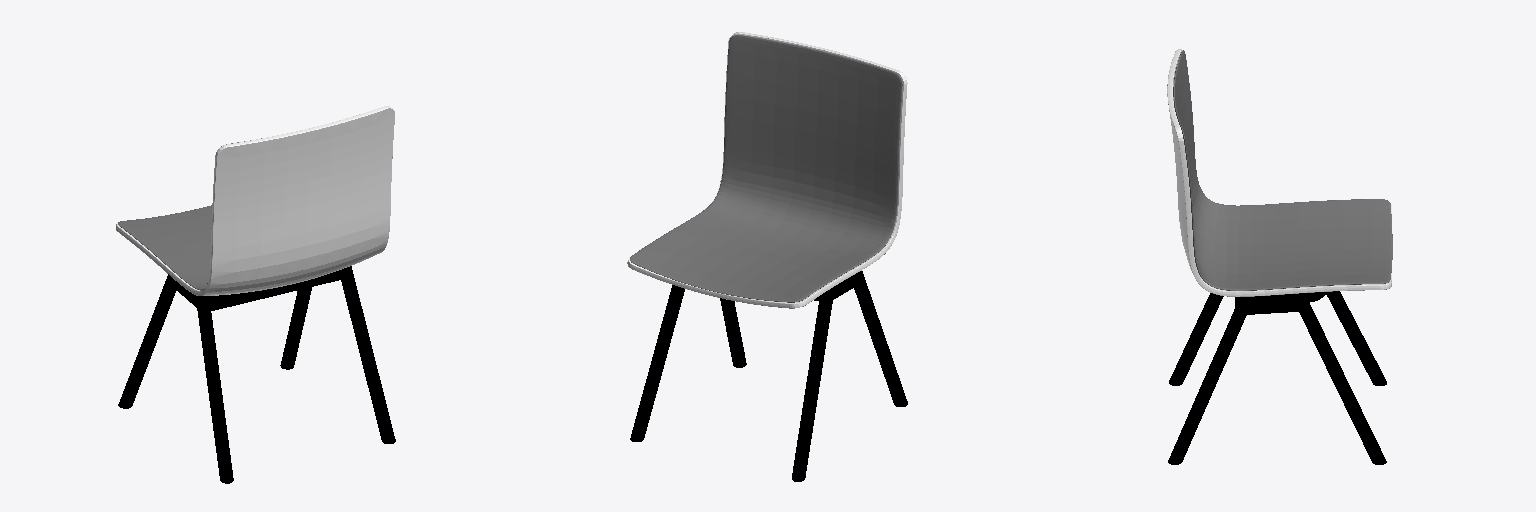
Rendered from kali.obj.
3 views of the same model, side by side, from view 1: azimuth 30°, elevation 25°; view 2: azimuth 150°, elevation 25°; view 3: azimuth 270°, elevation 25° (orthographic).
Size of the model in its own units: 476 by 851 by 521.